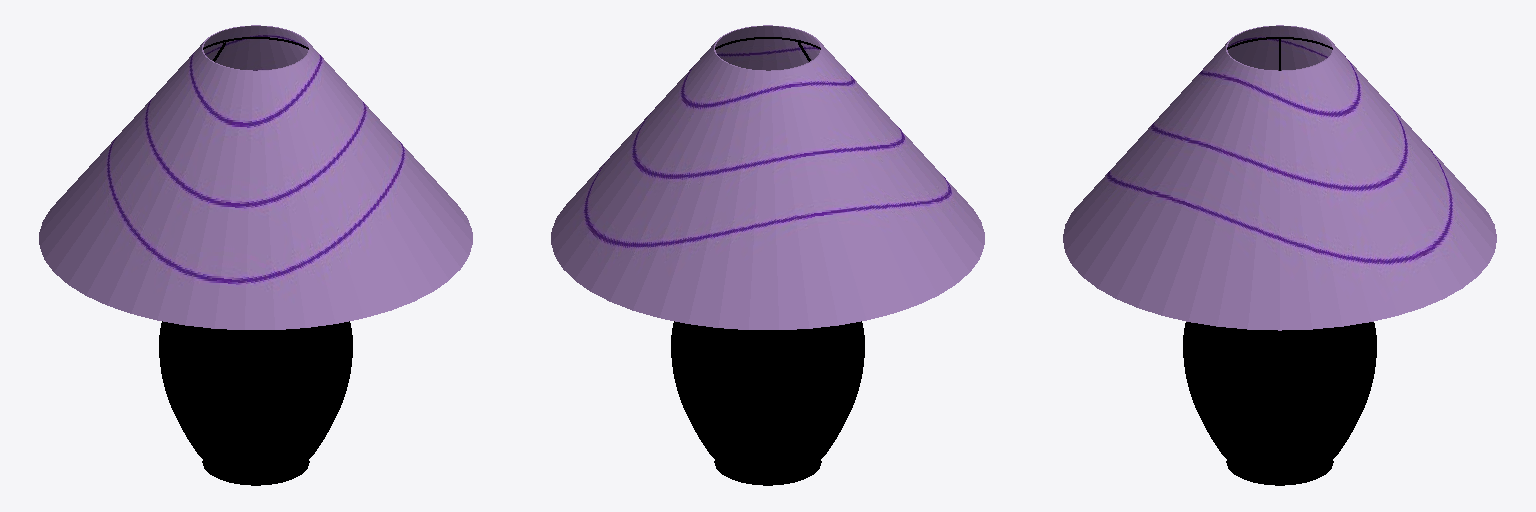
3 renders of one model, left to right at view 1: azimuth 30°, elevation 25°; view 2: azimuth 150°, elevation 25°; view 3: azimuth 270°, elevation 25°, orthographic.
Parts seen in each view (by area): view 1: lmp005:Rectangle9; view 2: lmp005:Rectangle9; view 3: lmp005:Rectangle9.
Boxes of the visible parts, x1,y1,x2,y2 form: lmp005:Rectangle9: [39, 25, 472, 485]; lmp005:Rectangle9: [551, 25, 984, 485]; lmp005:Rectangle9: [1063, 25, 1496, 485].
Size of the model in its own units: 171 by 180 by 171.
2 materials, 1 textured.